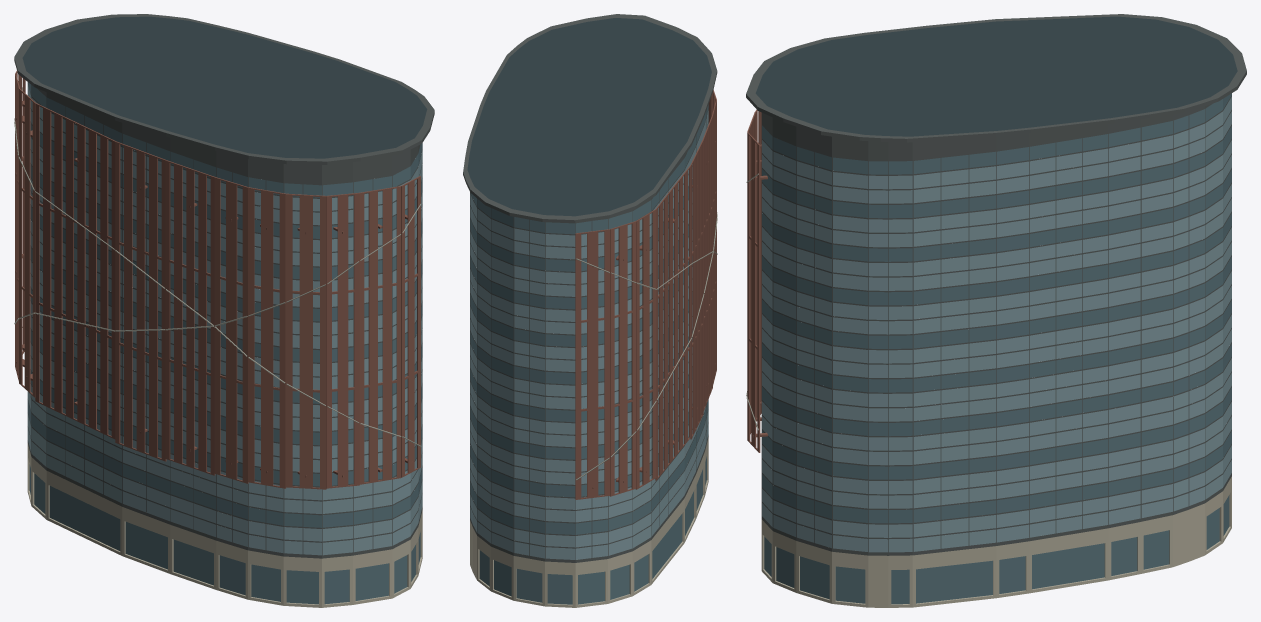
Rendered from tour-elithis-dijon-near.glb.
3 renders of one model, left to right at view 1: azimuth 30°, elevation 25°; view 2: azimuth 150°, elevation 25°; view 3: azimuth 270°, elevation 25°, orthographic. The views are drawn at different scales.
Parts seen in each view (by area): view 1: tour-elithis-dijon-0-copper, tour-elithis-dijon-0-glass, tour-elithis-dijon-0-solar, tour-elithis-dijon-0-glassDark, tour-elithis-dijon-0-frame, tour-elithis-dijon-0-stone, tour-elithis-dijon-0-ties; view 2: tour-elithis-dijon-0-solar, tour-elithis-dijon-0-glass, tour-elithis-dijon-0-copper, tour-elithis-dijon-0-glassDark, tour-elithis-dijon-0-frame, tour-elithis-dijon-0-stone, tour-elithis-dijon-0-ties; view 3: tour-elithis-dijon-0-glass, tour-elithis-dijon-0-glassDark, tour-elithis-dijon-0-frame, tour-elithis-dijon-0-solar, tour-elithis-dijon-0-stone, tour-elithis-dijon-0-copper.
Part boxes in pixels (x1=…): tour-elithis-dijon-0-copper: x1=15, y1=71, x2=420, y2=489; tour-elithis-dijon-0-glass: x1=27, y1=84, x2=422, y2=555; tour-elithis-dijon-0-solar: x1=22, y1=16, x2=427, y2=158; tour-elithis-dijon-0-glassDark: x1=27, y1=82, x2=422, y2=604; tour-elithis-dijon-0-frame: x1=14, y1=14, x2=434, y2=558; tour-elithis-dijon-0-stone: x1=27, y1=443, x2=422, y2=607; tour-elithis-dijon-0-ties: x1=14, y1=87, x2=421, y2=446; tour-elithis-dijon-0-solar: x1=467, y1=18, x2=711, y2=216; tour-elithis-dijon-0-glass: x1=470, y1=110, x2=708, y2=559; tour-elithis-dijon-0-copper: x1=575, y1=90, x2=716, y2=499; tour-elithis-dijon-0-glassDark: x1=470, y1=104, x2=708, y2=604; tour-elithis-dijon-0-frame: x1=463, y1=14, x2=717, y2=562; tour-elithis-dijon-0-stone: x1=470, y1=437, x2=708, y2=607; tour-elithis-dijon-0-ties: x1=576, y1=212, x2=717, y2=480; tour-elithis-dijon-0-glass: x1=762, y1=96, x2=1231, y2=552; tour-elithis-dijon-0-glassDark: x1=762, y1=93, x2=1231, y2=604; tour-elithis-dijon-0-frame: x1=746, y1=14, x2=1246, y2=555; tour-elithis-dijon-0-solar: x1=755, y1=16, x2=1237, y2=136; tour-elithis-dijon-0-stone: x1=761, y1=476, x2=1231, y2=607; tour-elithis-dijon-0-copper: x1=747, y1=110, x2=767, y2=452.
Bounding box in the file's own units: 20.66 × 33.5 × 31.77.
